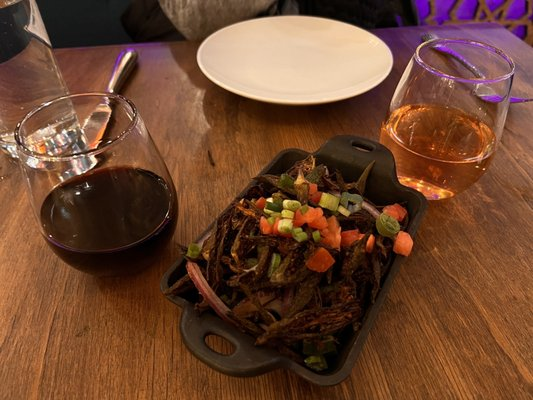pizza: (11, 91, 179, 262), (379, 36, 516, 201), (0, 0, 71, 158)
